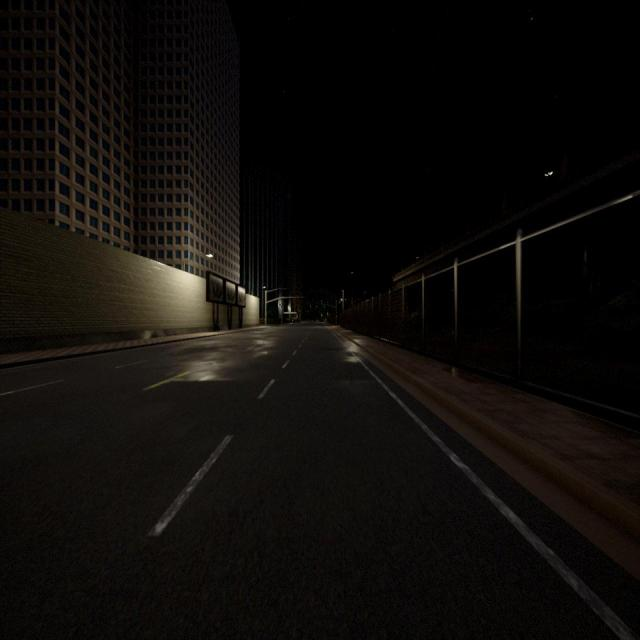traffic_light: (316, 305, 318, 308), (323, 305, 325, 307), (336, 314, 337, 318), (310, 305, 311, 308)
